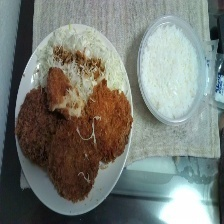rice: (35, 23, 129, 107)
